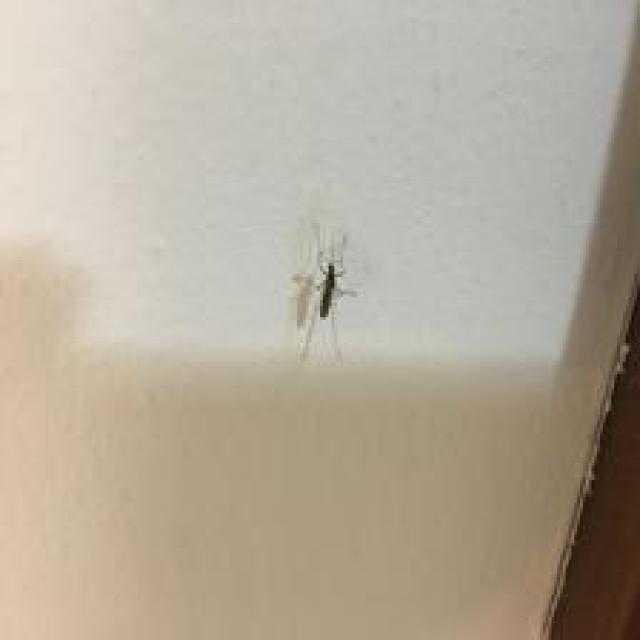Culex: (287, 220, 359, 363)
